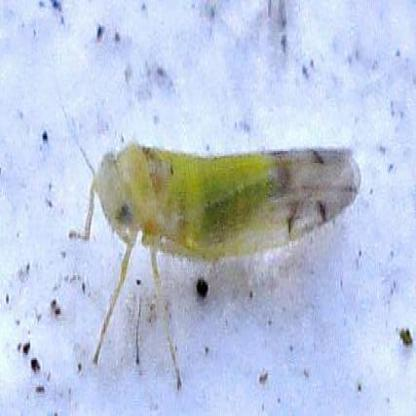green-leafhopper: (85, 130, 356, 274)
